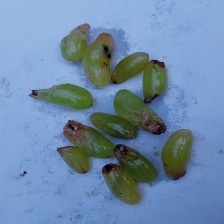grapes: (26, 51, 174, 215)
